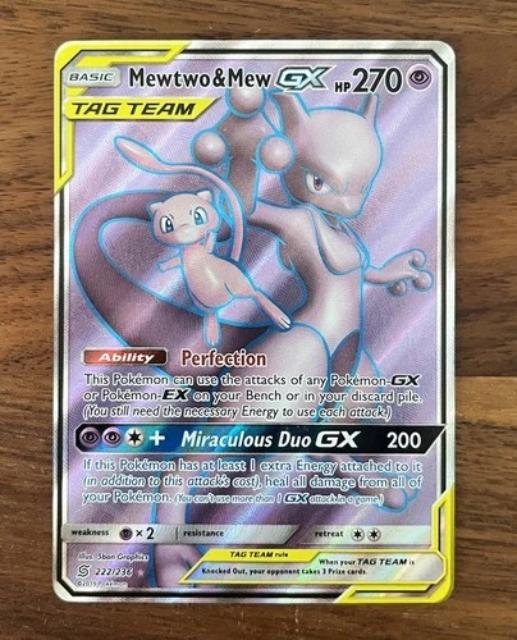Card: (48, 37, 461, 608)
Name: (123, 60, 341, 95)
